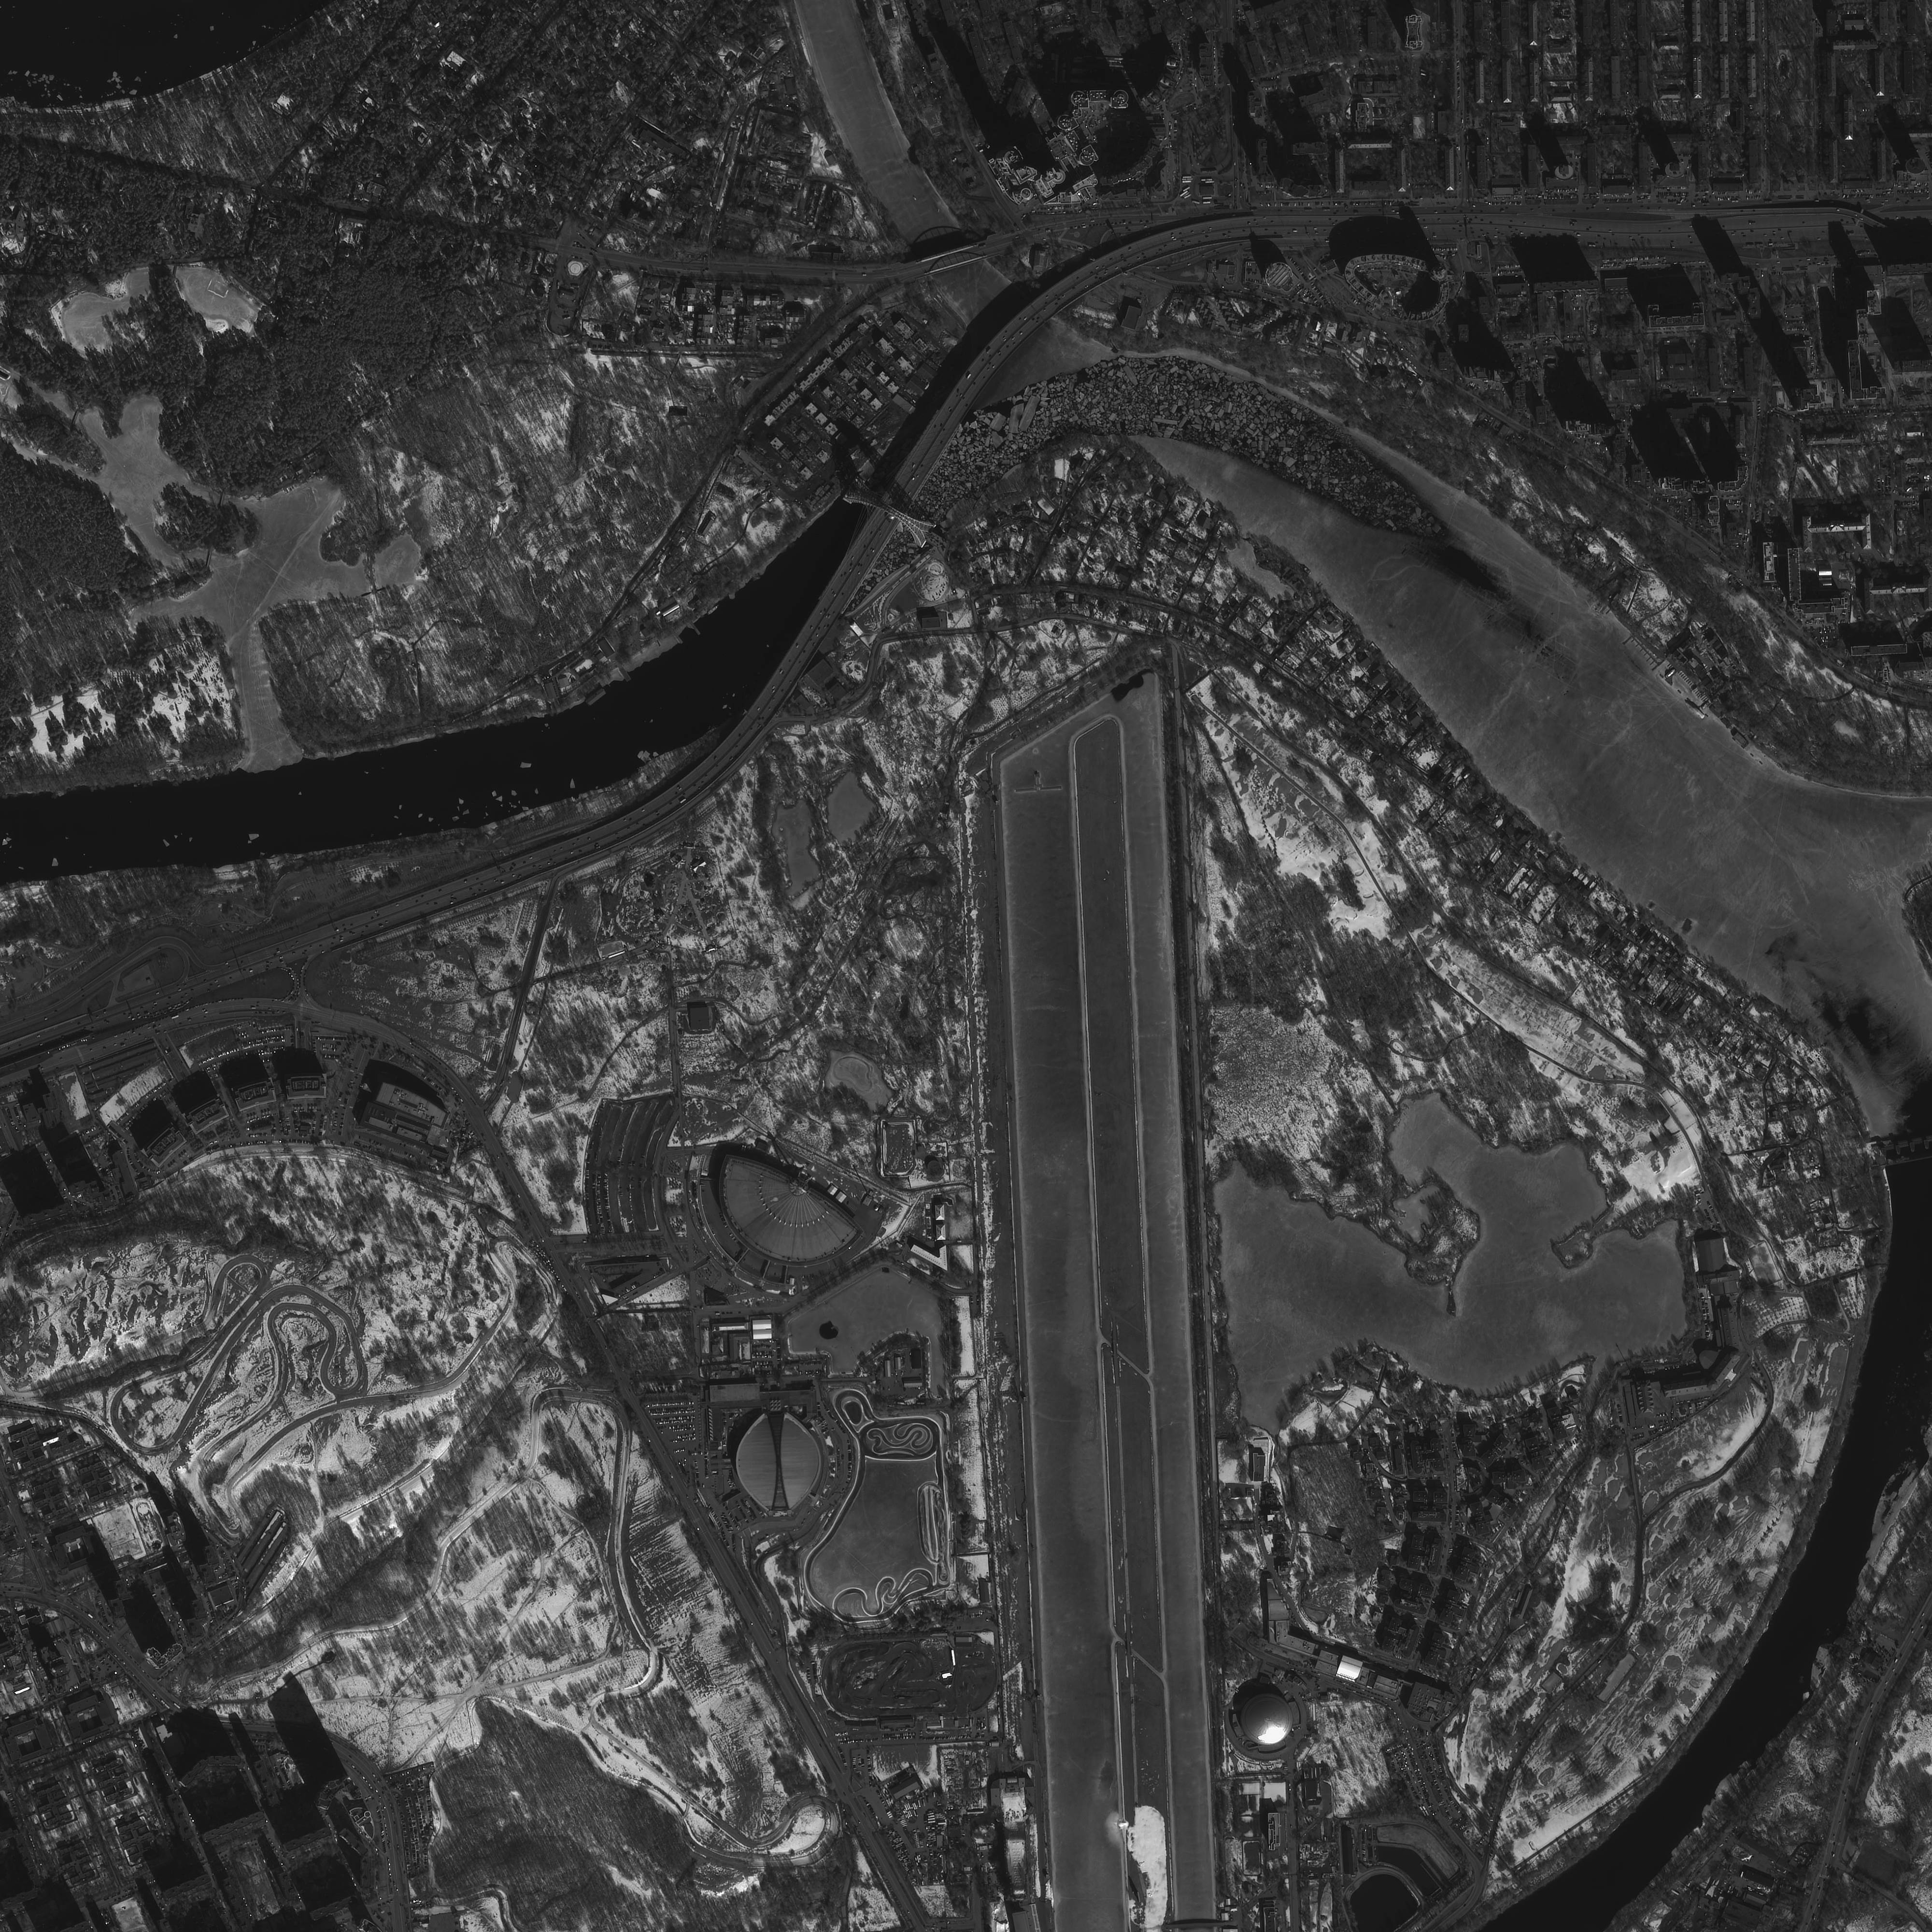bridge: (920, 239, 989, 278)
